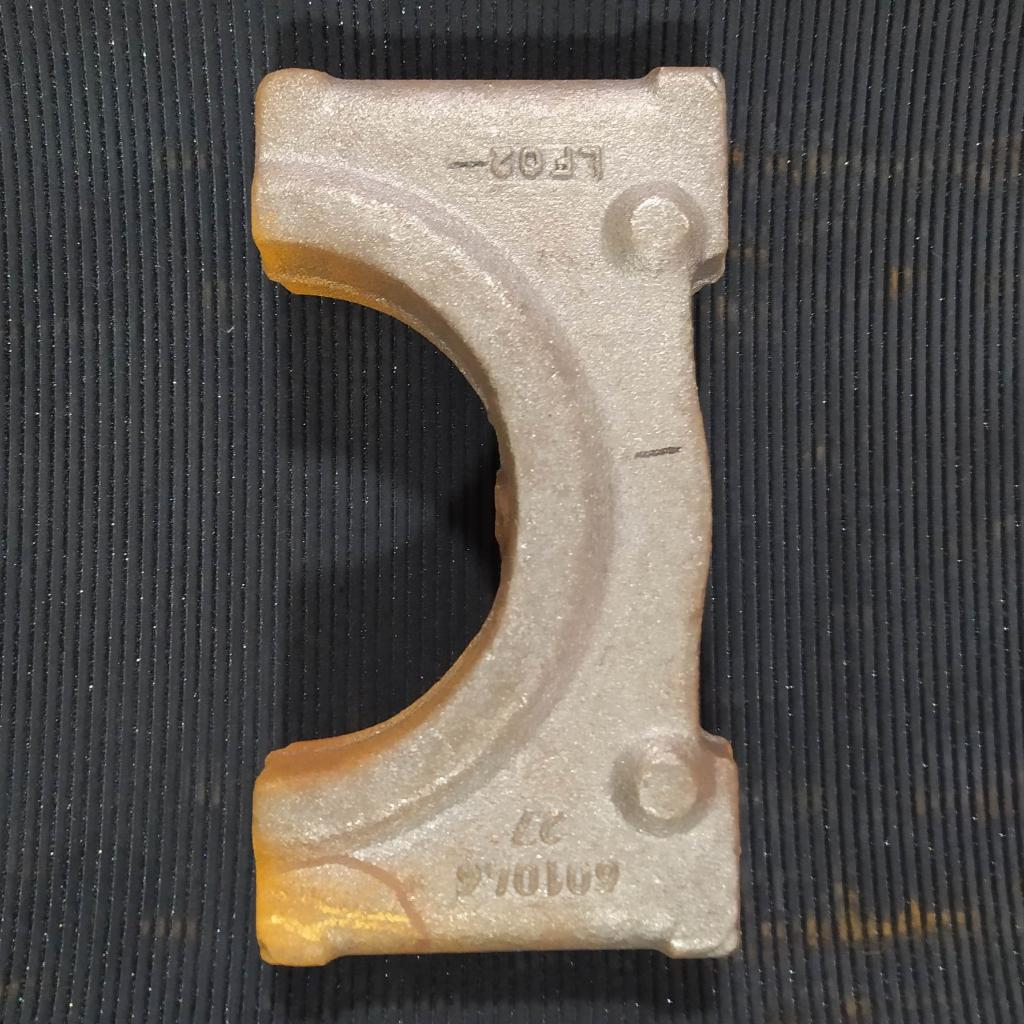rechupe: (706, 922, 740, 956), (705, 70, 720, 90)
